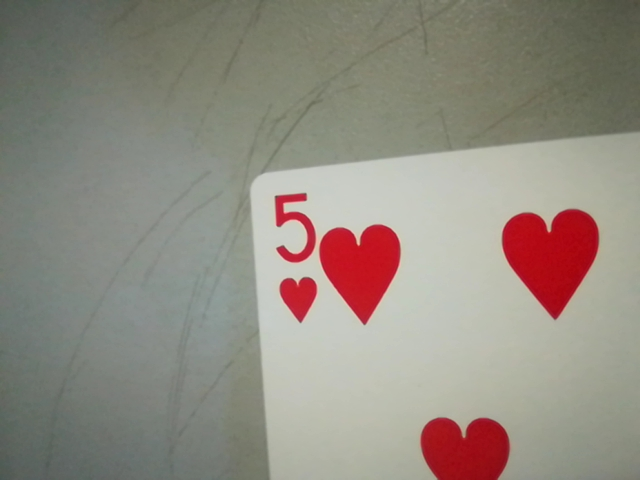hx 5: (259, 180, 321, 330)
